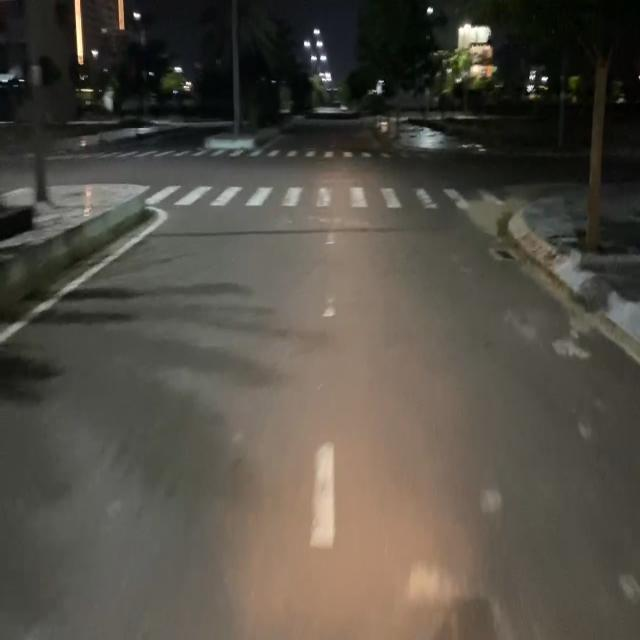walk-crossing: (146, 179, 472, 214), (184, 145, 409, 162)
